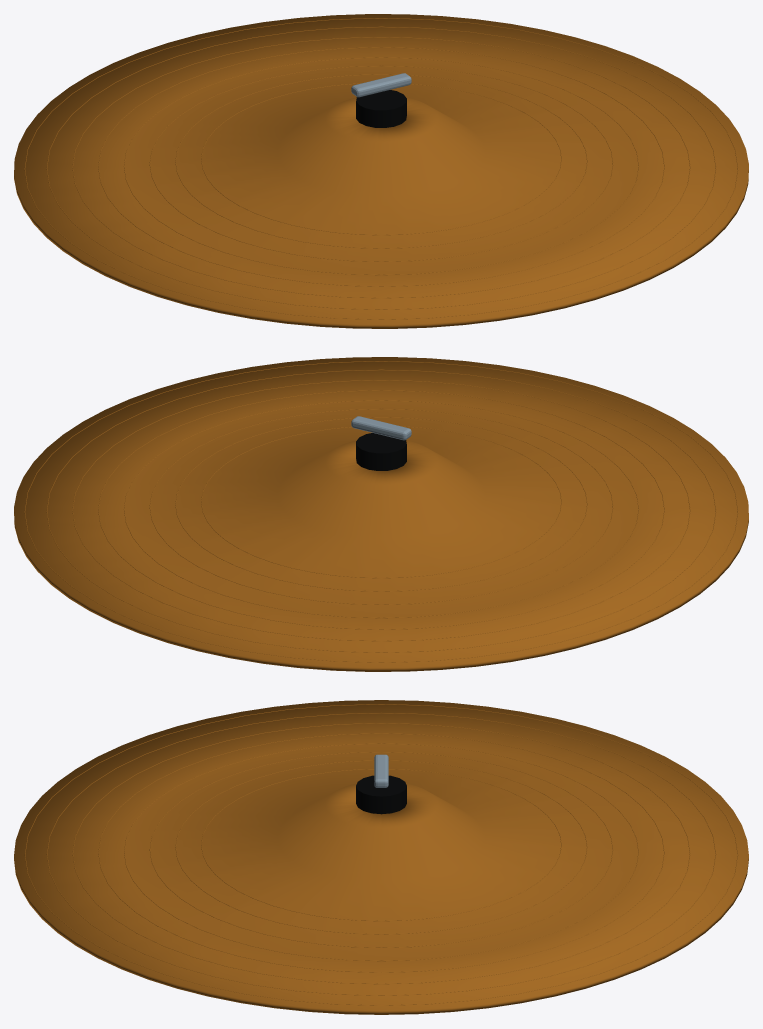
File: Crash1.obj
3 renders of one model, top to bottom at view 1: azimuth 30°, elevation 25°; view 2: azimuth 150°, elevation 25°; view 3: azimuth 270°, elevation 25°, orthographic.
Visible parts, largest first — view 1: Crash1.001; view 2: Crash1.001; view 3: Crash1.001.
Boxes of the visible parts, <box> form: Crash1.001: <box>14,14,748,328</box>; Crash1.001: <box>14,357,748,671</box>; Crash1.001: <box>14,700,748,1014</box>.
Bounding box in the file's own units: 0.46 × 0.064 × 0.46.
